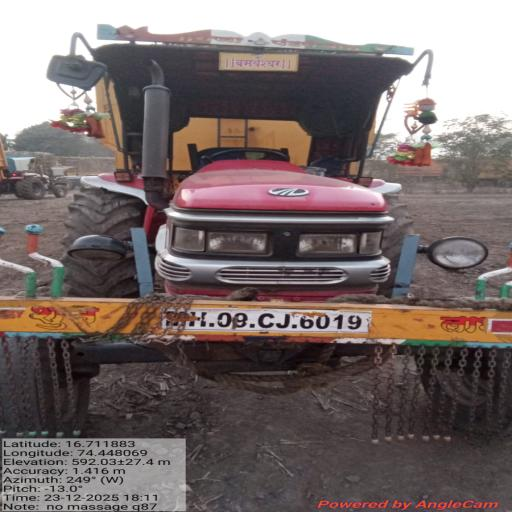number_plate: (159, 302, 387, 339)
